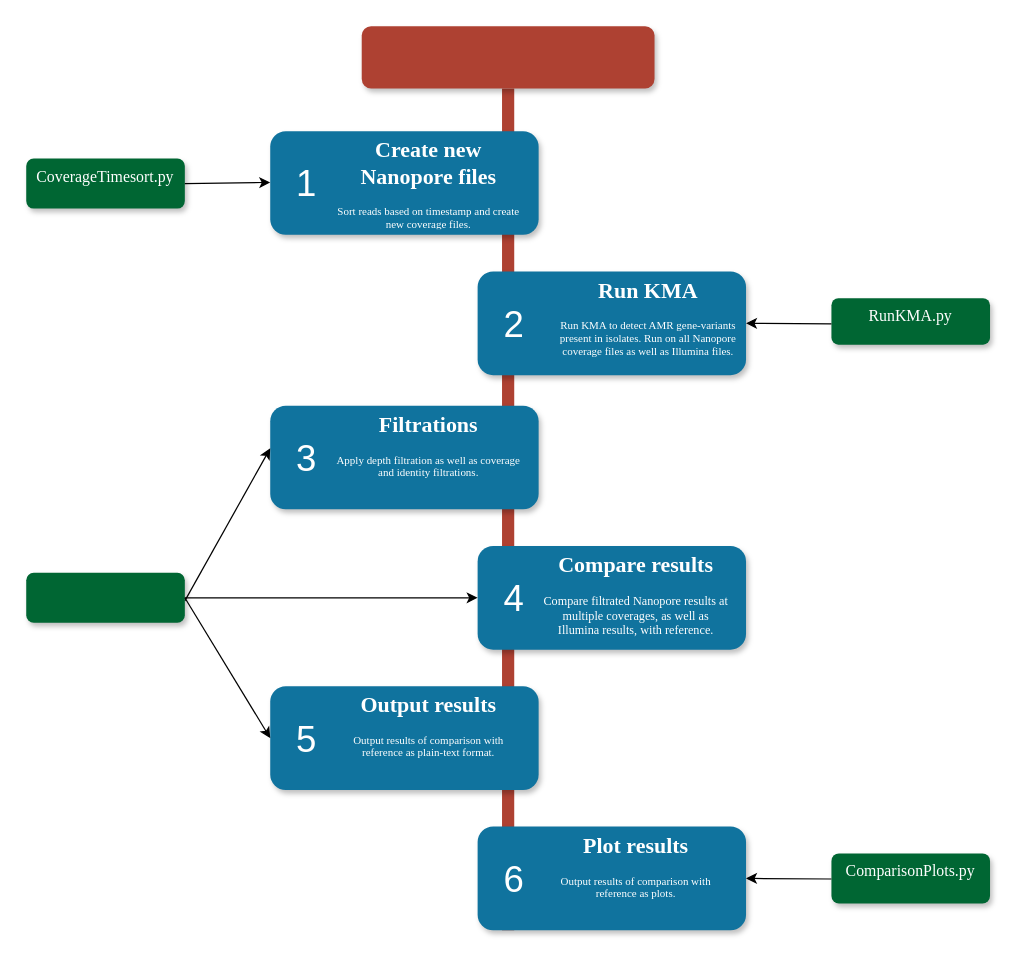
Some shapes in this 1017 by 959 pixel diagram are drawn without their labels. The centre of each missing label's shape, as x and y in pixels:
NanoporeFiltration.py: pixel 106 599
NanoporeFiltrationCompare Pipeline: pixel 508 58
